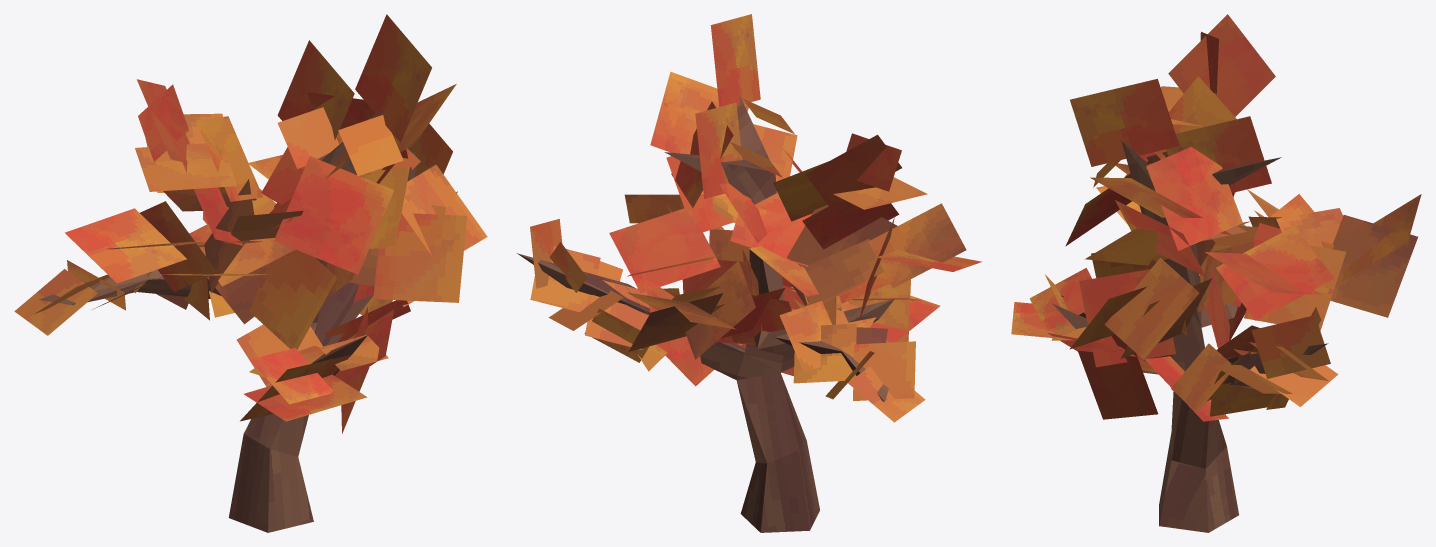
Rendered from maple-tree.fbx.
3 views of the same model, side by side, from view 1: azimuth 30°, elevation 25°; view 2: azimuth 150°, elevation 25°; view 3: azimuth 270°, elevation 25° (orthographic). The views are drawn at different scales.
Visible parts, largest first — view 1: Icosphere, Plane; view 2: Icosphere, Plane; view 3: Icosphere, Plane.
Boxes of the visible parts, bbox=[...] form: Icosphere: bbox=[14, 14, 487, 433]; Plane: bbox=[38, 110, 416, 532]; Icosphere: bbox=[530, 14, 982, 422]; Plane: bbox=[517, 97, 893, 532]; Icosphere: bbox=[1011, 14, 1421, 421]; Plane: bbox=[1052, 141, 1328, 532].
Size of the model in its own units: 823 by 722 by 936.
2 materials, 2 textured.
